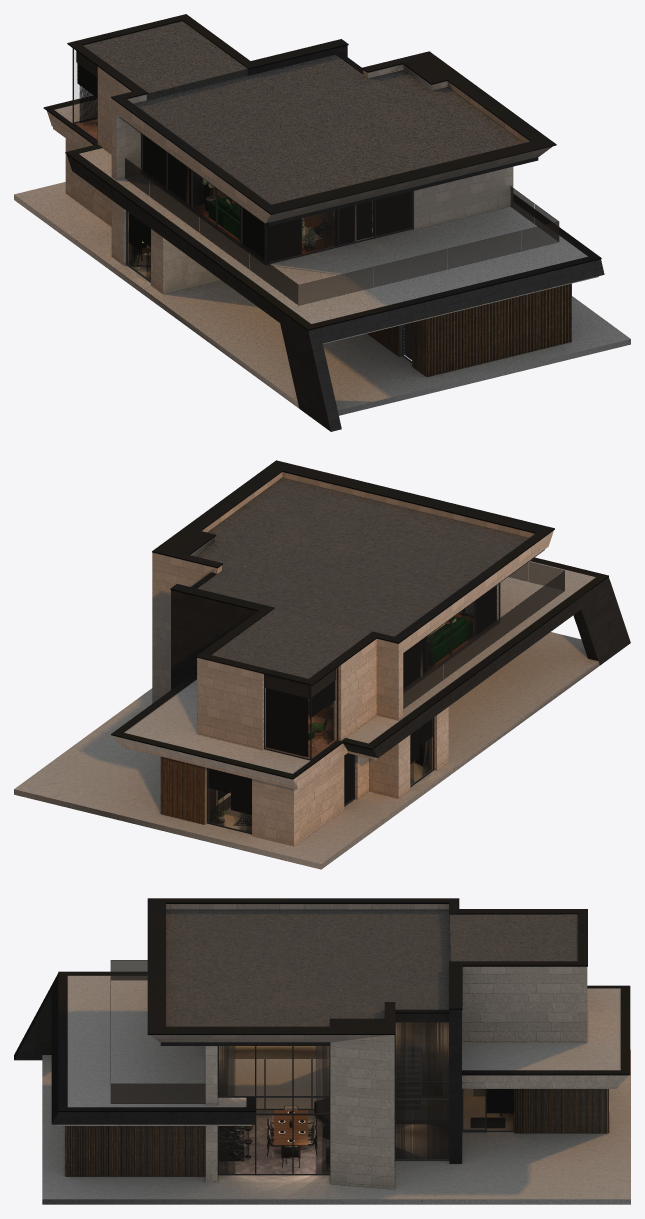
3 views of the same model, one above another, from view 1: azimuth 30°, elevation 25°; view 2: azimuth 150°, elevation 25°; view 3: azimuth 270°, elevation 25° (orthographic). The views are drawn at different scales.
Visible parts, largest first — view 1: Д2_Фасад1.002, Д2_Фасад3.001, Д2_Фасад2.001, Д2_Стекло.001, Жалюзи, Комната3.001, Д2_Рамы, Занавески, Коридоры.001; view 2: Д2_Фасад1.002, Д2_Фасад3.001, Д2_Фасад2.001, Жалюзи, Д2_Стекло.001, Д2_Рамы, Занавески, Комната3.001, Комната2.002, Комната1.002, Коридоры.001; view 3: Д2_Фасад1.002, Д2_Фасад3.001, Д2_Фасад2.001, Коридоры.001, Занавески, Кухня раф.002, Д2_Стекло.001, Д2_Рамы, Жалюзи.
Boxes of the visible parts, left/top/right/bottom form: Д2_Фасад1.002: left=14, top=21, right=630, bottom=410; Д2_Фасад3.001: left=14, top=45, right=630, bottom=431; Д2_Фасад2.001: left=43, top=14, right=601, bottom=376; Д2_Стекло.001: left=74, top=50, right=559, bottom=305; Жалюзи: left=77, top=63, right=410, bottom=262; Комната3.001: left=188, top=168, right=355, bottom=262; Д2_Рамы: left=72, top=48, right=558, bottom=362; Занавески: left=83, top=88, right=334, bottom=280; Коридоры.001: left=186, top=168, right=568, bottom=375; Д2_Фасад1.002: left=14, top=478, right=598, bottom=863; Д2_Фасад3.001: left=14, top=472, right=630, bottom=869; Д2_Фасад2.001: left=111, top=460, right=608, bottom=824; Жалюзи: left=208, top=585, right=497, bottom=814; Д2_Стекло.001: left=403, top=562, right=564, bottom=708; Д2_Рамы: left=207, top=561, right=564, bottom=834; Занавески: left=209, top=602, right=474, bottom=832; Комната3.001: left=423, top=613, right=474, bottom=676; Комната2.002: left=208, top=774, right=251, bottom=832; Комната1.002: left=265, top=698, right=336, bottom=758; Коридоры.001: left=162, top=645, right=422, bottom=824; Д2_Фасад1.002: left=42, top=909, right=630, bottom=1199; Д2_Фасад3.001: left=14, top=904, right=630, bottom=1204; Д2_Фасад2.001: left=58, top=898, right=630, bottom=1176; Коридоры.001: left=67, top=1022, right=607, bottom=1176; Занавески: left=219, top=1022, right=448, bottom=1173; Кухня раф.002: left=219, top=1046, right=329, bottom=1173; Д2_Стекло.001: left=111, top=960, right=484, bottom=1129; Д2_Рамы: left=110, top=960, right=514, bottom=1175; Жалюзи: left=486, top=1089, right=514, bottom=1113.
Bounding box in the file's own units: 7.76 × 3.9 × 13.53.
Materials: 17 (10 with a texture image).
